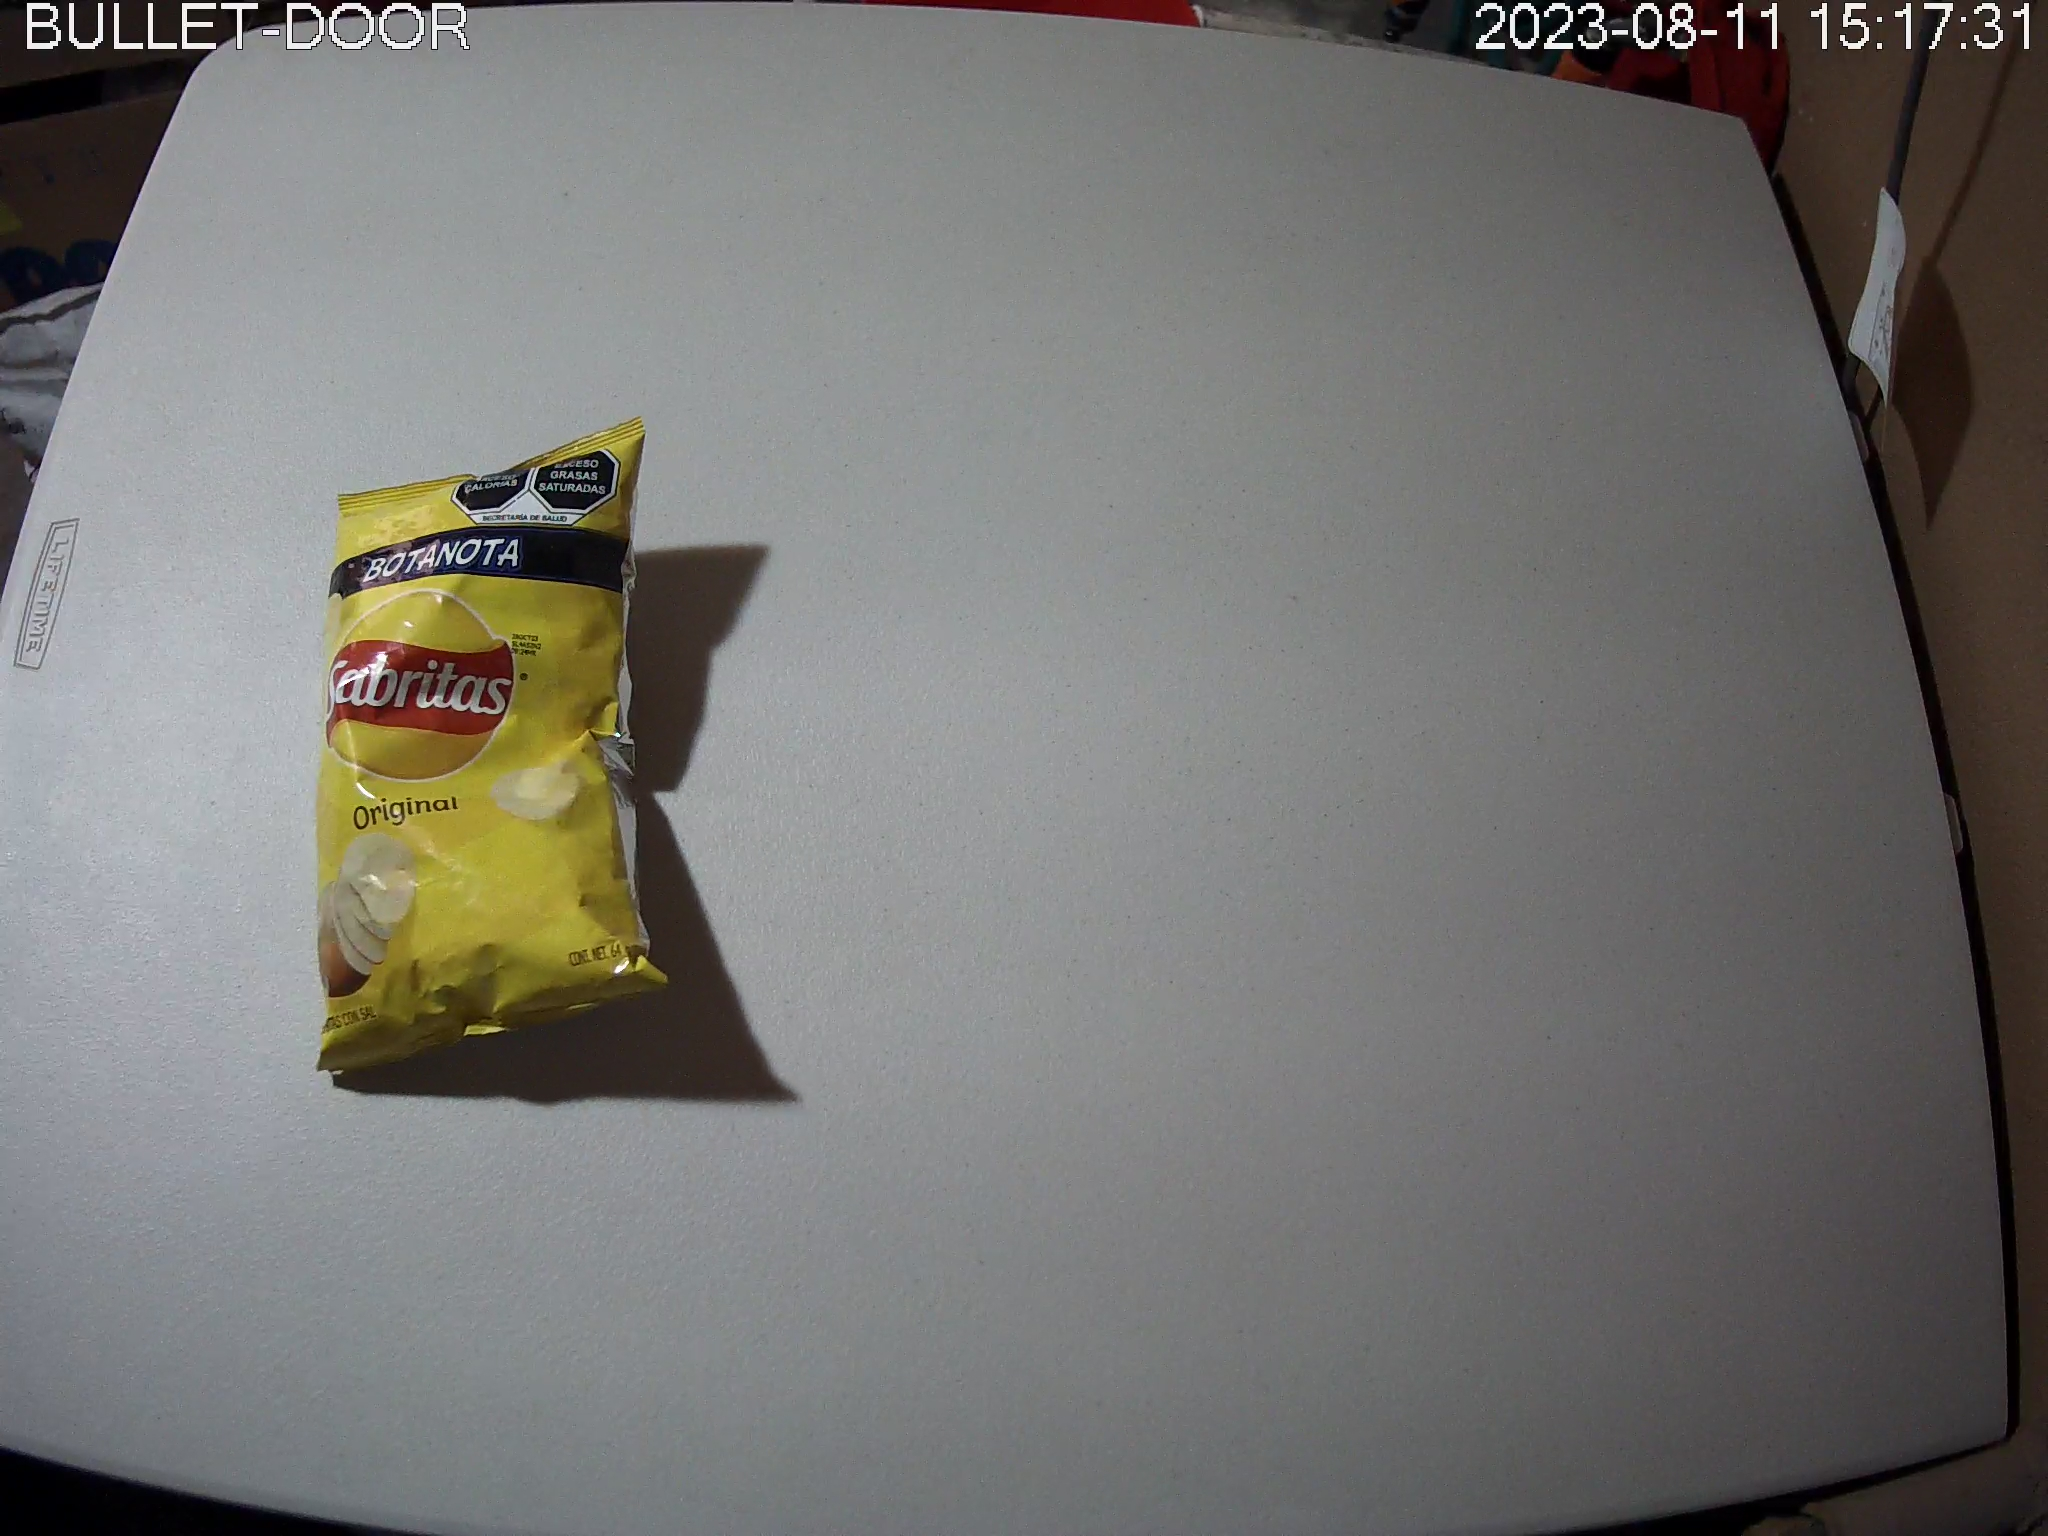Sabritas_64_F: (311, 416, 679, 1070)
